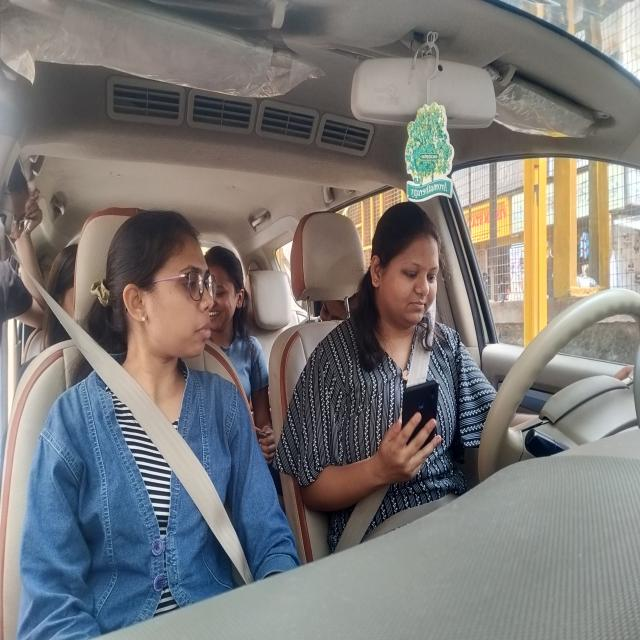mobile: (399, 364, 445, 475)
person: (103, 201, 219, 376), (369, 187, 460, 343), (200, 218, 258, 344), (42, 244, 86, 363)
